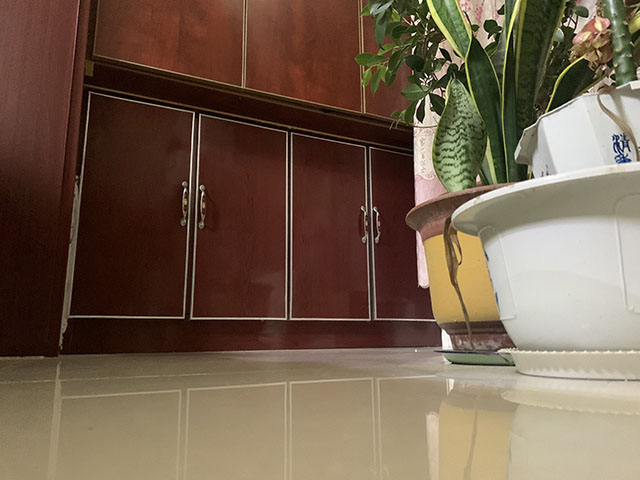cabinet: (1, 1, 443, 359)
